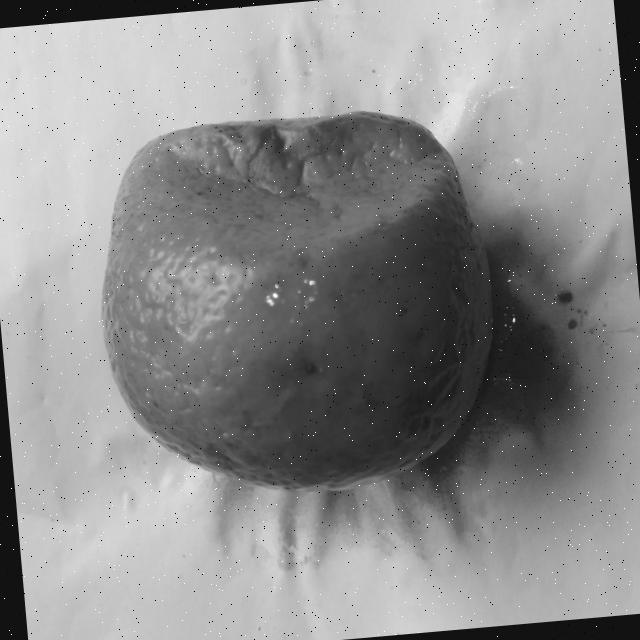Rotten: (85, 100, 512, 512)
